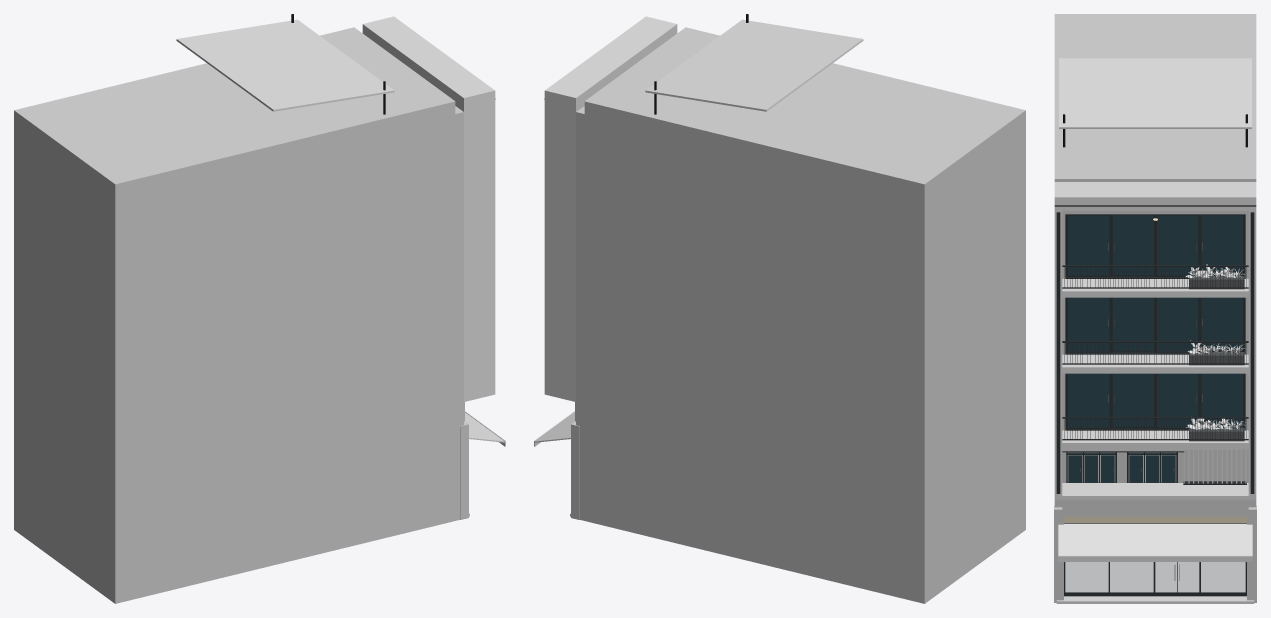
File: OW_Mau_NhaPho_8_0_3_B.fbx
3 renders of one model, left to right at view 1: azimuth 30°, elevation 25°; view 2: azimuth 150°, elevation 25°; view 3: azimuth 270°, elevation 25°, orthographic.
Parts seen in each view (by area): view 1: OW_NhaPho_9047; view 2: OW_NhaPho_9047; view 3: OW_NhaPho_9047, OW_MatTienKinh.
Part boxes in pixels (x1,y1,x2,y2): OW_NhaPho_9047: (14,14,505,603); OW_NhaPho_9047: (534,14,1025,603); OW_NhaPho_9047: (1054,14,1256,603); OW_MatTienKinh: (1064,516,1246,596).
Bounding box in the file's own units: 17.77 × 19.61 × 8.
